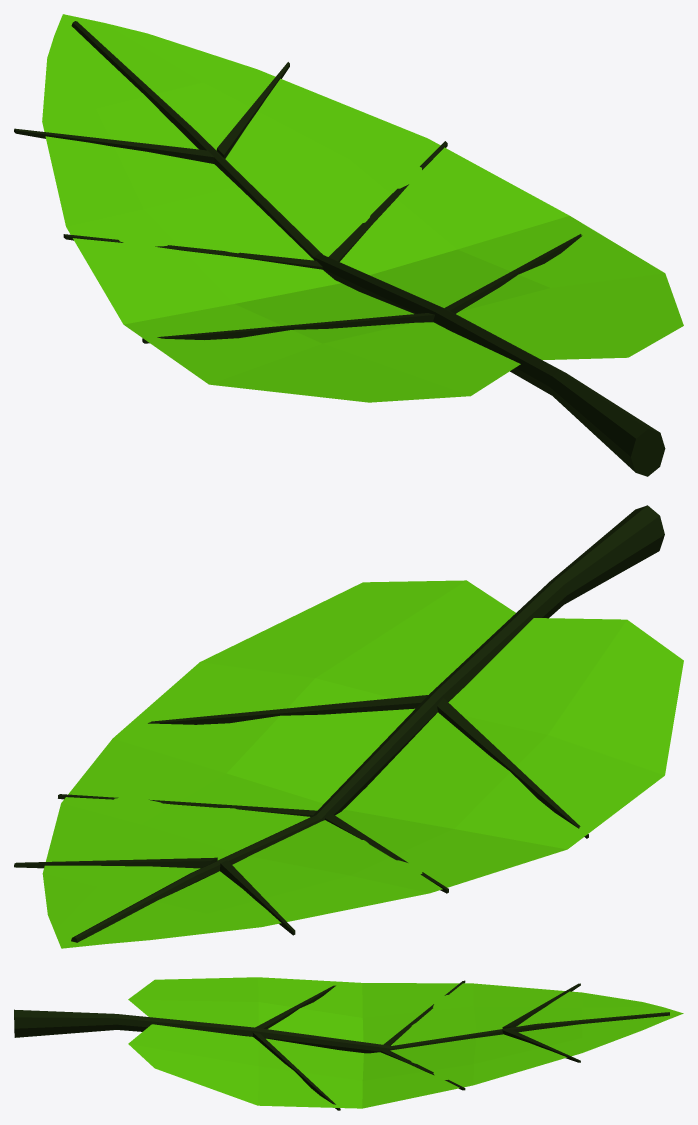
File: Leaf2.fbx
3 views of the same model, one above another, from view 1: azimuth 30°, elevation 25°; view 2: azimuth 150°, elevation 25°; view 3: azimuth 270°, elevation 25° (orthographic). The views are drawn at different scales.
Parts seen in each view (by area): view 1: Leaf2; view 2: Leaf2; view 3: Leaf2.
Part boxes in pixels (x1,y1,x2,y2): Leaf2: [14, 14, 683, 476]; Leaf2: [14, 505, 683, 948]; Leaf2: [14, 977, 683, 1110].
Bounding box in the file's own units: 59.03 × 130 × 10.1.
